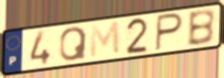2: (124, 16, 150, 57)
4: (29, 29, 53, 66)
B: (186, 7, 217, 48)
M: (89, 20, 122, 60)
P: (153, 11, 185, 53)
Q: (58, 26, 88, 63)
